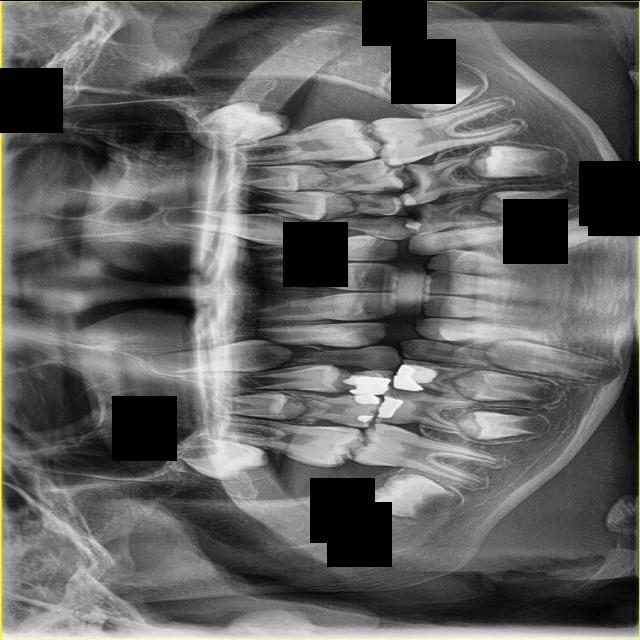NucleOSS Implant: (392, 361, 426, 392), (345, 373, 390, 394), (376, 393, 404, 423), (354, 392, 381, 405), (356, 413, 375, 423)
Sterngold Implant: (386, 385, 421, 403), (404, 166, 422, 197), (413, 201, 428, 221), (339, 132, 359, 144), (385, 215, 413, 223), (367, 193, 397, 200), (372, 185, 401, 191), (391, 136, 404, 145), (325, 442, 334, 450)
